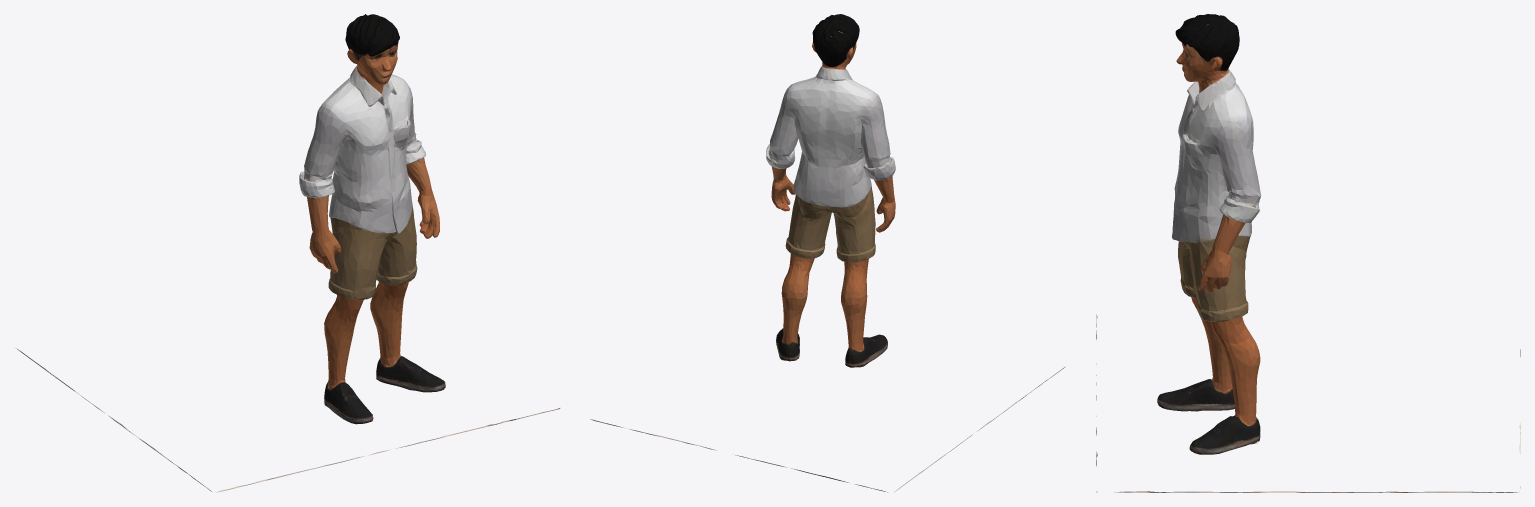
File: passenger-white.web.glb
3 views of the same model, side by side, from view 1: azimuth 30°, elevation 25°; view 2: azimuth 150°, elevation 25°; view 3: azimuth 270°, elevation 25° (orthographic). The views are drawn at different scales.
Bounding box in the file's own units: 0.9459 × 1 × 0.9465.
1 material, 1 textured.
